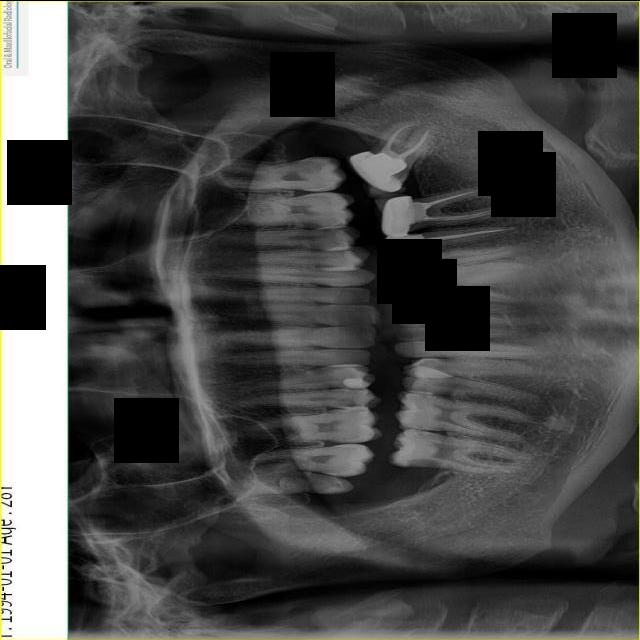74: (379, 115, 420, 161), (420, 186, 491, 210), (393, 129, 434, 164), (424, 227, 514, 242), (419, 209, 500, 221)
NucleOSS Implant: (358, 144, 410, 188)
Sterngold Implant: (296, 155, 334, 174), (403, 456, 451, 469), (334, 396, 362, 409), (410, 422, 426, 430), (409, 428, 427, 435), (345, 388, 366, 393), (415, 393, 433, 398)
Straumann Implant: (383, 231, 425, 250), (342, 376, 373, 388), (409, 202, 425, 222)
Zimmer Implant: (349, 141, 406, 206), (374, 189, 417, 239)
